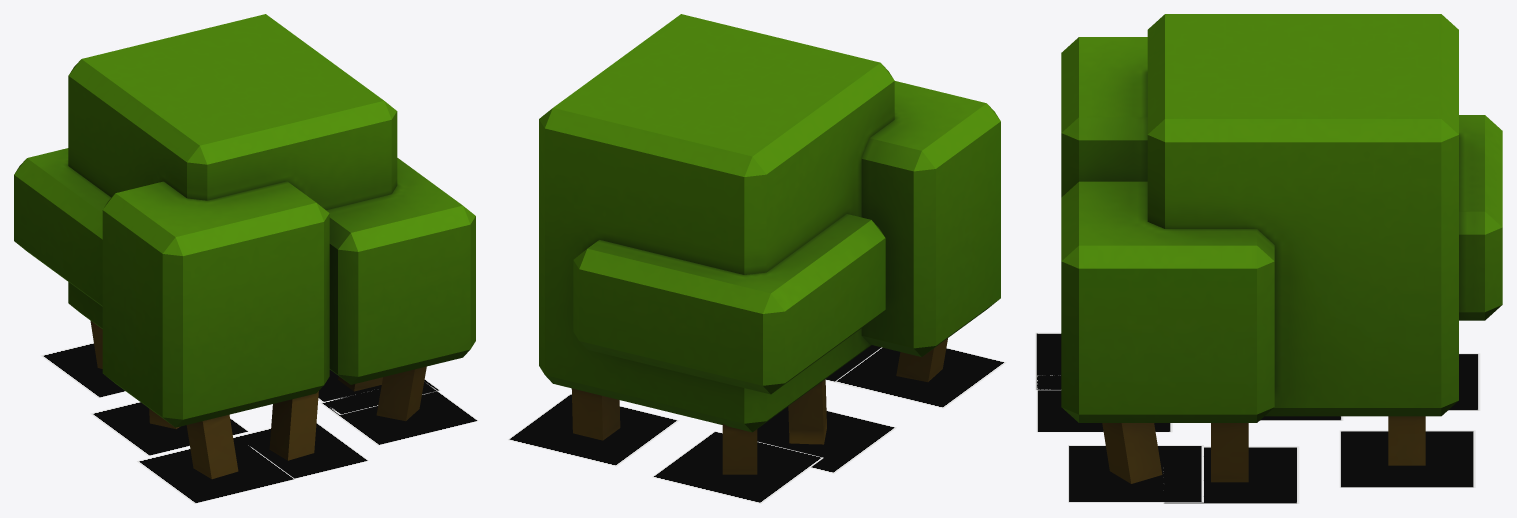
The model's file is 2x2_bush.FBX.
The picture shows the model from 3 angles, left to right: view 1: azimuth 30°, elevation 25°; view 2: azimuth 150°, elevation 25°; view 3: azimuth 270°, elevation 25°; orthographic projection. The views are drawn at different scales.
Visible parts, largest first — view 1: 2x2_bush, 2x2_bush_soft_shadow; view 2: 2x2_bush, 2x2_bush_soft_shadow; view 3: 2x2_bush, 2x2_bush_soft_shadow.
Boxes of the visible parts, x1,y1,x2,y2 form: 2x2_bush: (14,14,475,479); 2x2_bush_soft_shadow: (40,342,478,503); 2x2_bush: (539,14,1000,474); 2x2_bush_soft_shadow: (508,345,1006,503); 2x2_bush: (1061,14,1502,483); 2x2_bush_soft_shadow: (1035,332,1480,503).
Size of the model in its own units: 1754 by 1689 by 1935.
